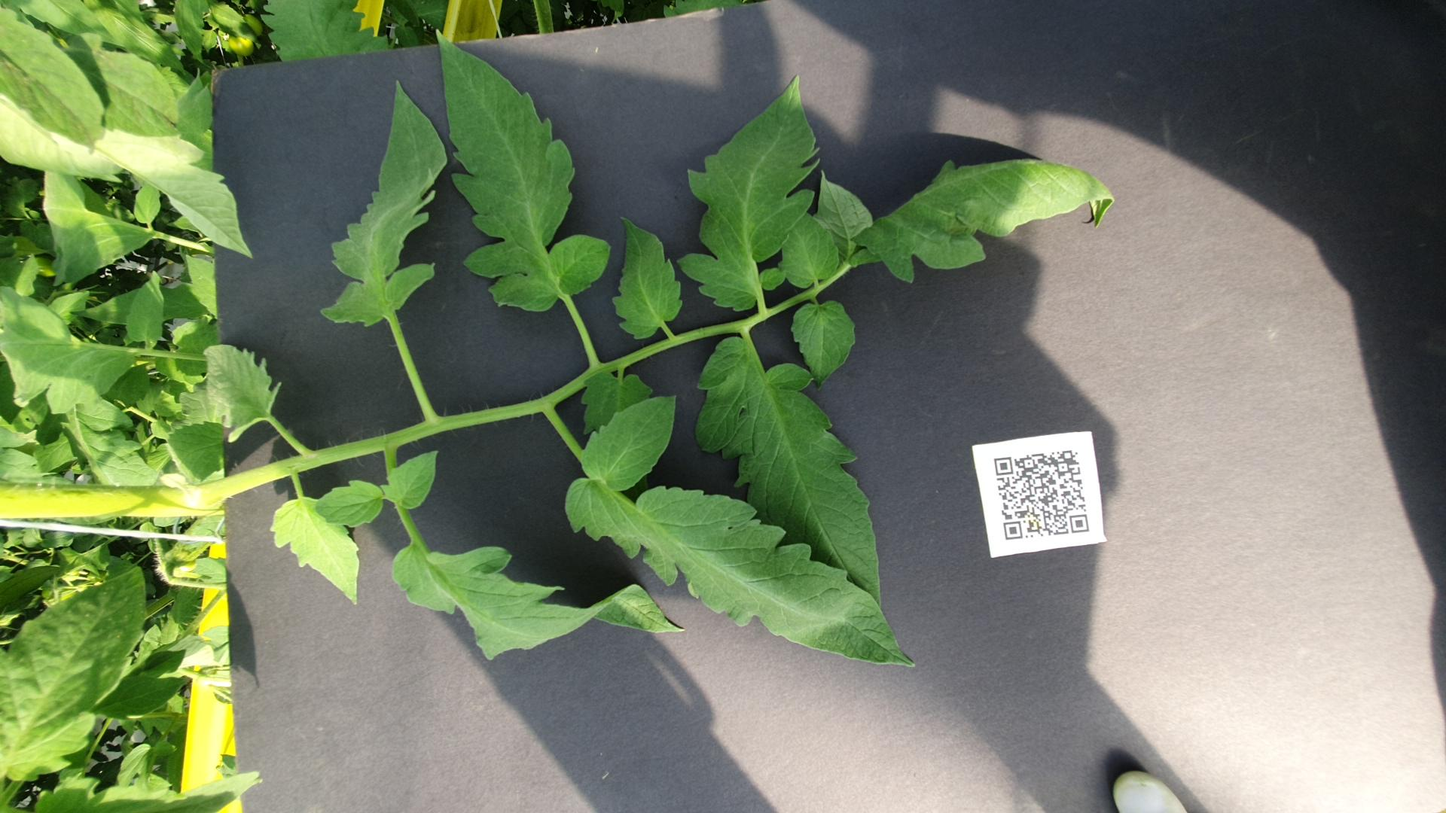Healthy: (254, 311, 747, 517), (356, 391, 875, 496), (886, 246, 1394, 348), (271, 219, 487, 384), (941, 476, 1168, 628), (865, 177, 1304, 252), (896, 382, 1317, 460), (55, 0, 443, 83), (705, 0, 939, 78), (584, 18, 742, 87), (369, 150, 563, 201), (844, 342, 1064, 385), (655, 114, 836, 158), (748, 443, 913, 481), (931, 437, 1067, 473), (581, 92, 699, 125), (507, 176, 596, 217), (534, 217, 648, 248), (833, 68, 967, 94), (1048, 74, 1125, 91)
